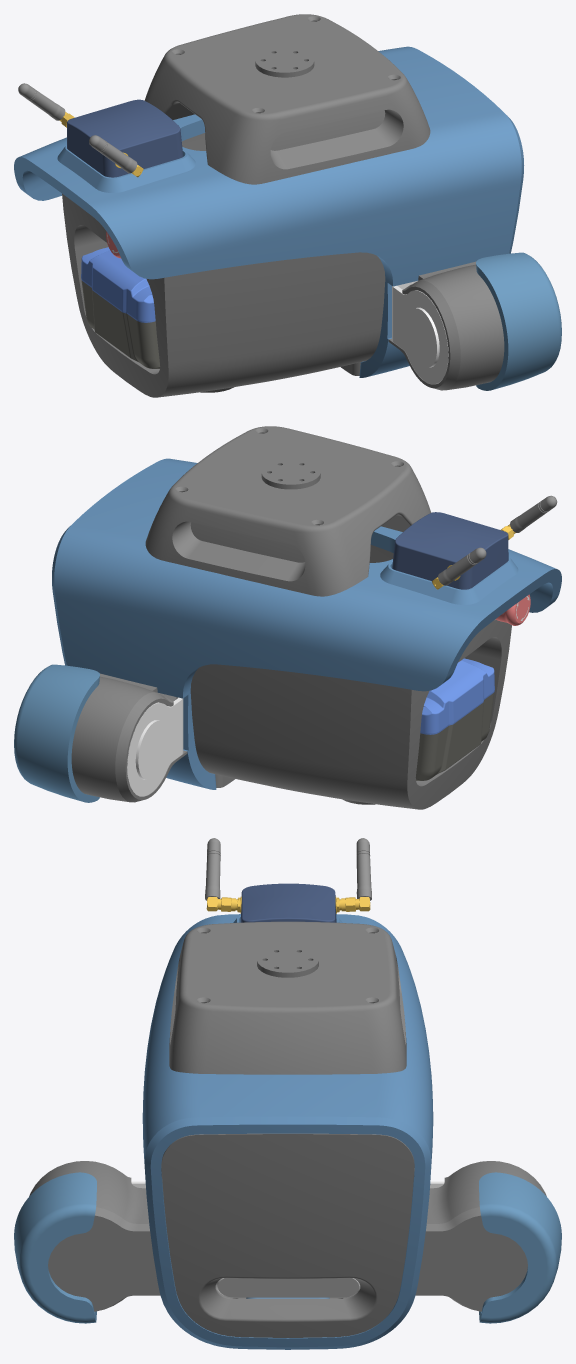
The picture shows the model from 3 angles, top to bottom: view 1: azimuth 30°, elevation 25°; view 2: azimuth 150°, elevation 25°; view 3: azimuth 270°, elevation 25°; orthographic projection. The views are drawn at different scales.
Visible parts, largest first — view 1: base_link; view 2: base_link; view 3: base_link.
Part boxes in pixels (x1=…): base_link: x1=14, y1=14, x2=561, y2=397; base_link: x1=14, y1=426, x2=561, y2=809; base_link: x1=14, y1=838, x2=561, y2=1349.
Size of the model in its own units: 0.2985 by 0.3251 by 0.2147.
